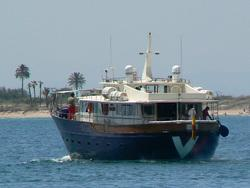yacht: (46, 65, 228, 161)
